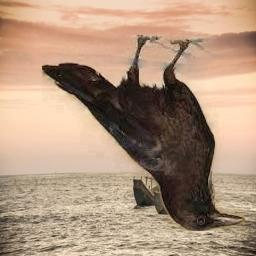Crow: (43, 35, 246, 231)
